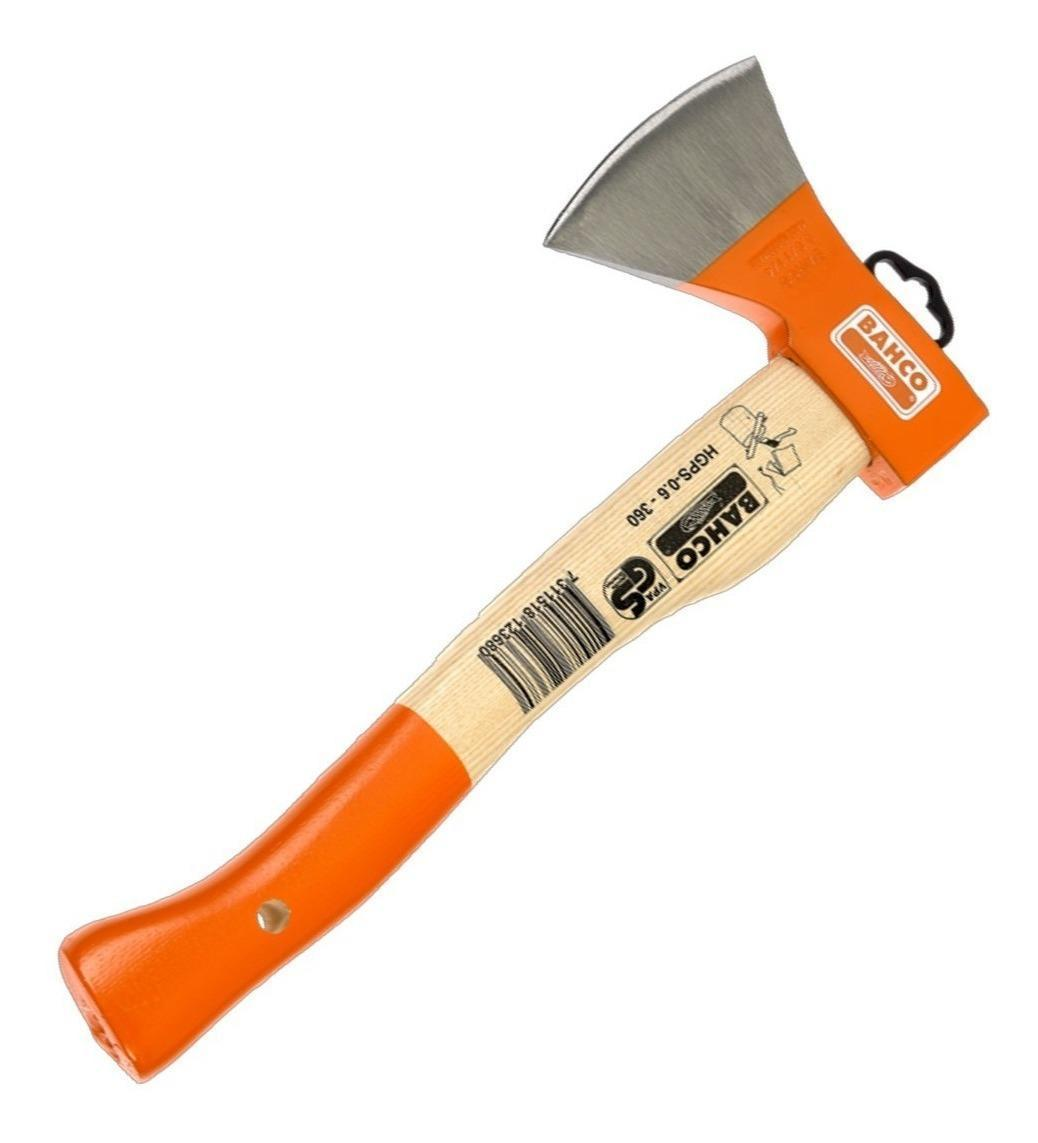machado: (59, 59, 986, 1081)
